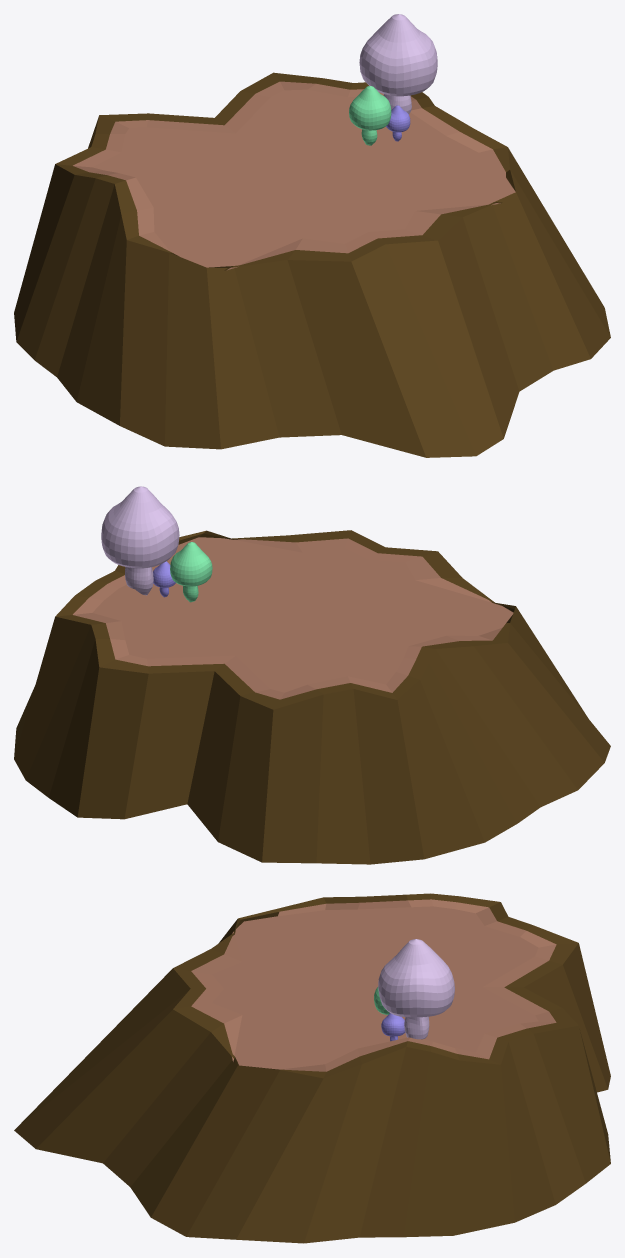
Rendered from stub.fbx.
The picture shows the model from 3 angles, top to bottom: view 1: azimuth 30°, elevation 25°; view 2: azimuth 150°, elevation 25°; view 3: azimuth 270°, elevation 25°; orthographic projection. The views are drawn at different scales.
Visible parts, largest first — view 1: Stub, Shroom.001, Shroom.002; view 2: Stub, Shroom.001, Shroom.002, Shroom; view 3: Stub, Shroom.001, Shroom.
Boxes of the visible parts, box(x1,y1,x2,y2) form: Stub: box(14, 72, 610, 457); Shroom.001: box(359, 14, 437, 113); Shroom.002: box(349, 86, 391, 145); Stub: box(14, 530, 610, 864); Shroom.001: box(101, 486, 179, 595); Shroom.002: box(170, 542, 212, 602); Shroom: box(153, 561, 175, 597); Stub: box(14, 893, 610, 1243); Shroom.001: box(378, 939, 454, 1039); Shroom: box(381, 1013, 405, 1041).
Size of the model in its own units: 208 by 103 by 220.
